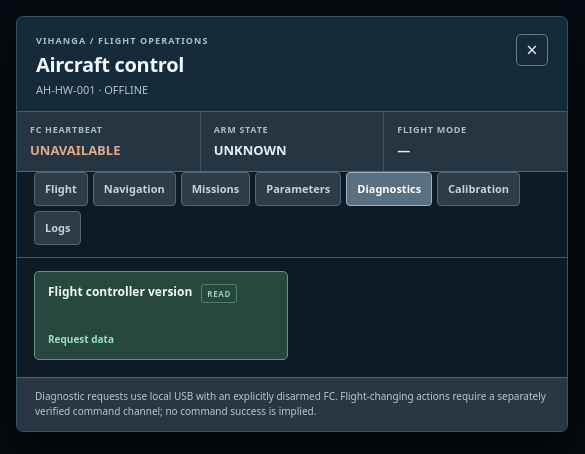
flight operation controls › cannot fire ARM, LAND or mode control without real authority
Later steps or results of the test are not shown.
What coordinates should you click on to do the following:
click the button "Flight"
I would click on:
 (61, 189)
Its box is x1=34 y1=172 x2=88 y2=206.
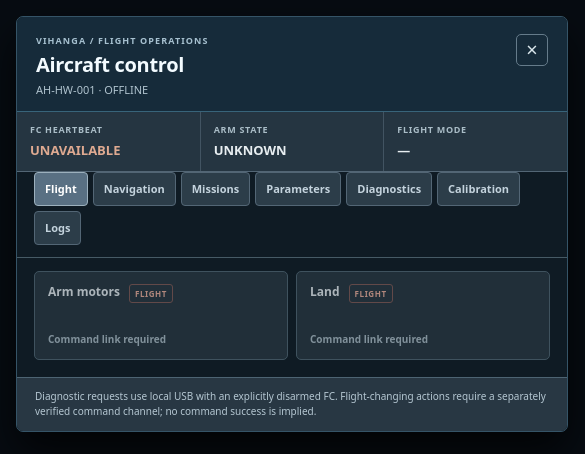
Check: the button "Arm motors FLIGHT Command link required" is disabled, box x1=34 y1=271 x2=288 y2=360
Check: the button "Land FLIGHT Command link required" is disabled, box x1=296 y1=271 x2=550 y2=360
